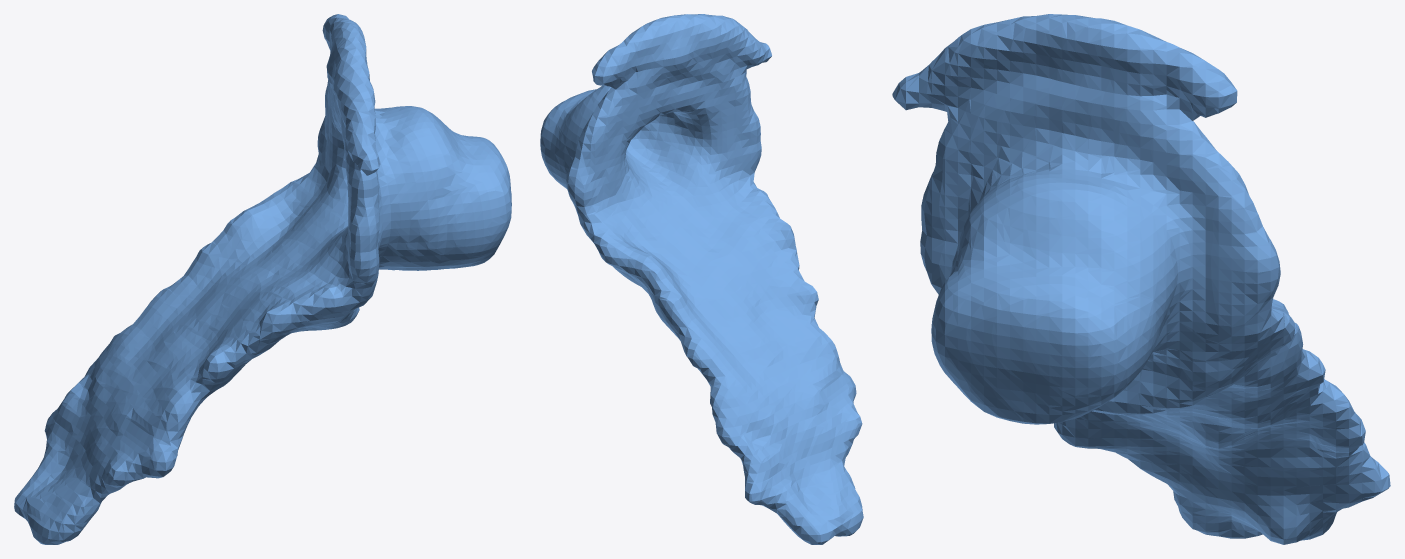
Rendered from water_0030.glb.
The picture shows the model from 3 angles, left to right: view 1: azimuth 30°, elevation 25°; view 2: azimuth 150°, elevation 25°; view 3: azimuth 270°, elevation 25°; orthographic projection. The views are drawn at different scales.
Parts seen in each view (by area): view 1: Water_0030; view 2: Water_0030; view 3: Water_0030.
Part boxes in pixels (box(x1,y1,x2,y2)): Water_0030: box(14, 14, 511, 544); Water_0030: box(540, 14, 863, 544); Water_0030: box(892, 14, 1390, 544).
Size of the model in its own units: 3.01 by 3.44 by 2.23.
